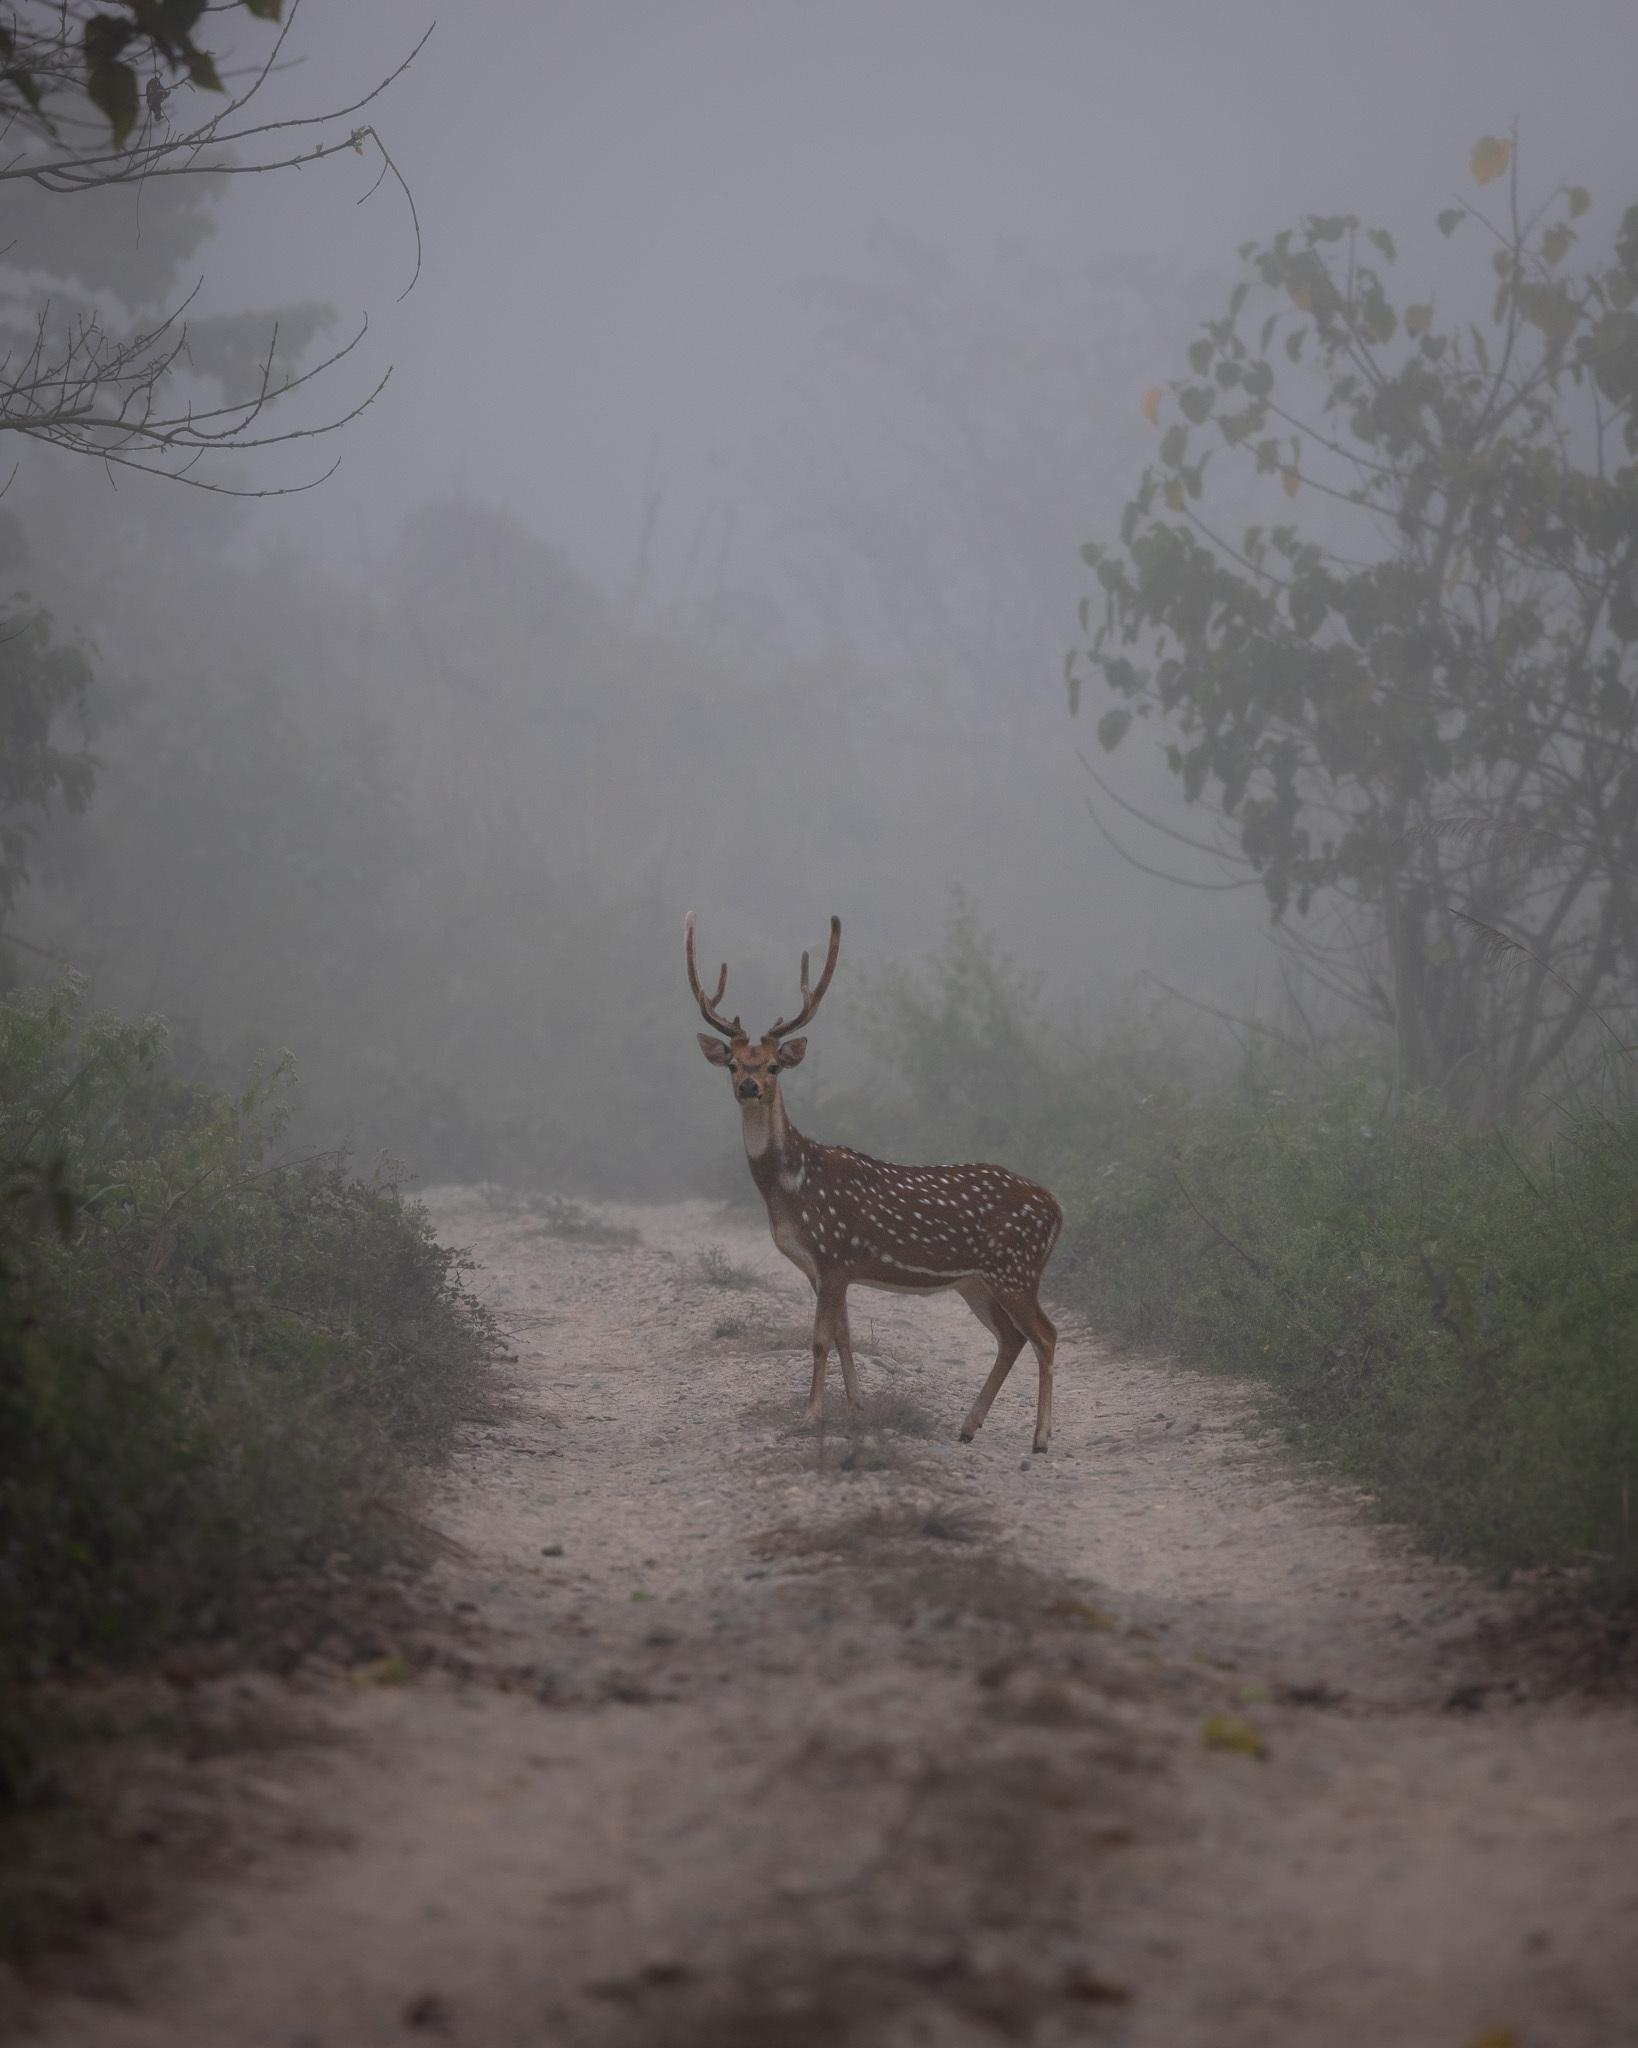Deer: (687, 914, 1061, 1453)
